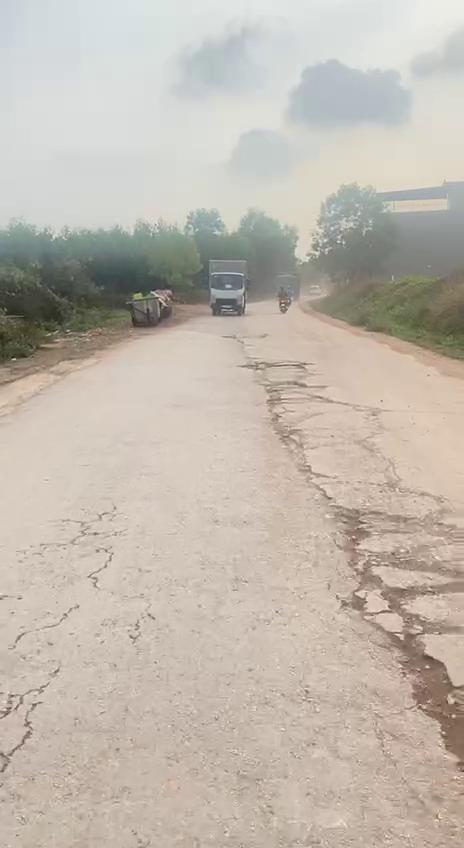pothole: (337, 504, 464, 758)
